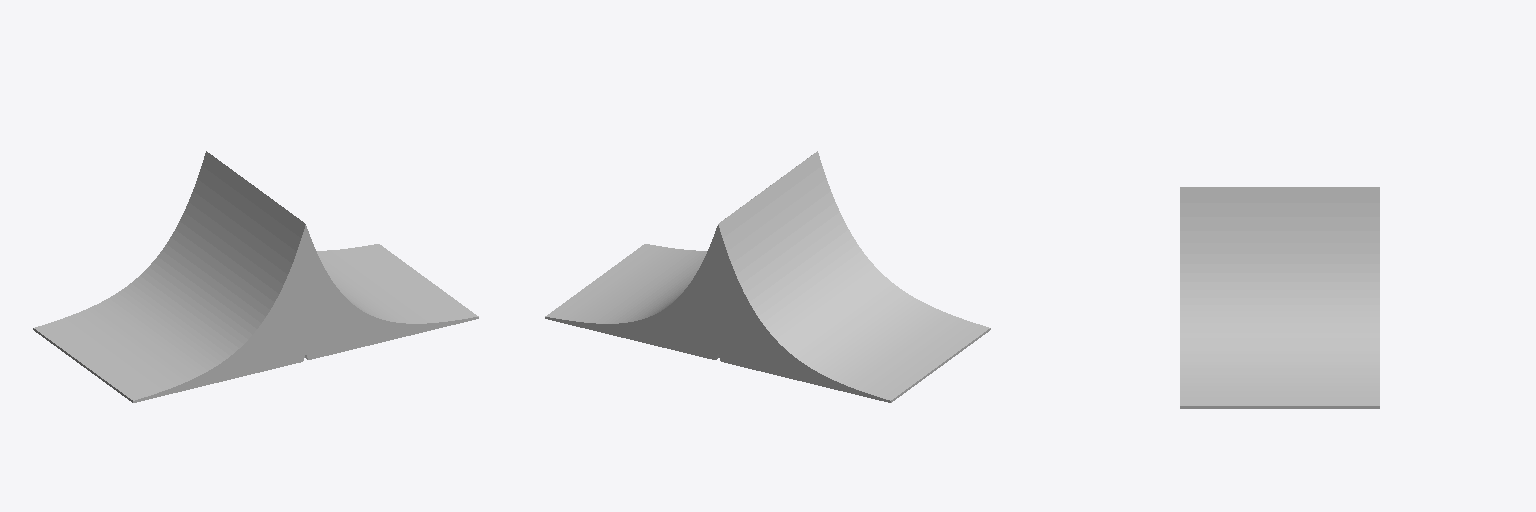
Rendered from exptile.obj.
The picture shows the model from 3 angles: view 1: azimuth 30°, elevation 25°; view 2: azimuth 150°, elevation 25°; view 3: azimuth 270°, elevation 25°; orthographic projection.
Parts seen in each view (by area): view 1: Z_Function, Z_Function.001_Z_Function.002; view 2: Z_Function, Z_Function.001_Z_Function.002; view 3: Z_Function.001_Z_Function.002.
Boxes of the visible parts, x1,y1,x2,y2 form: Z_Function: [33, 151, 305, 402]; Z_Function.001_Z_Function.002: [212, 155, 478, 359]; Z_Function: [718, 151, 990, 402]; Z_Function.001_Z_Function.002: [545, 155, 811, 359]; Z_Function.001_Z_Function.002: [1180, 187, 1379, 408].
Bounding box in the file's own units: 20 × 7.6 × 10.01.